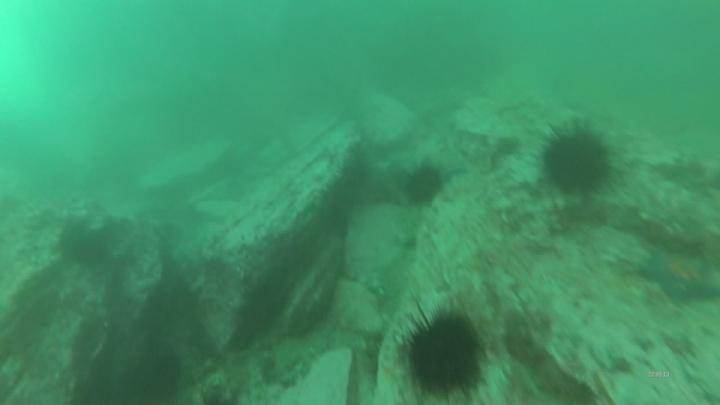echinus: (395, 300, 493, 401), (536, 116, 620, 206), (401, 157, 447, 210)
starfish: (636, 241, 720, 313)
